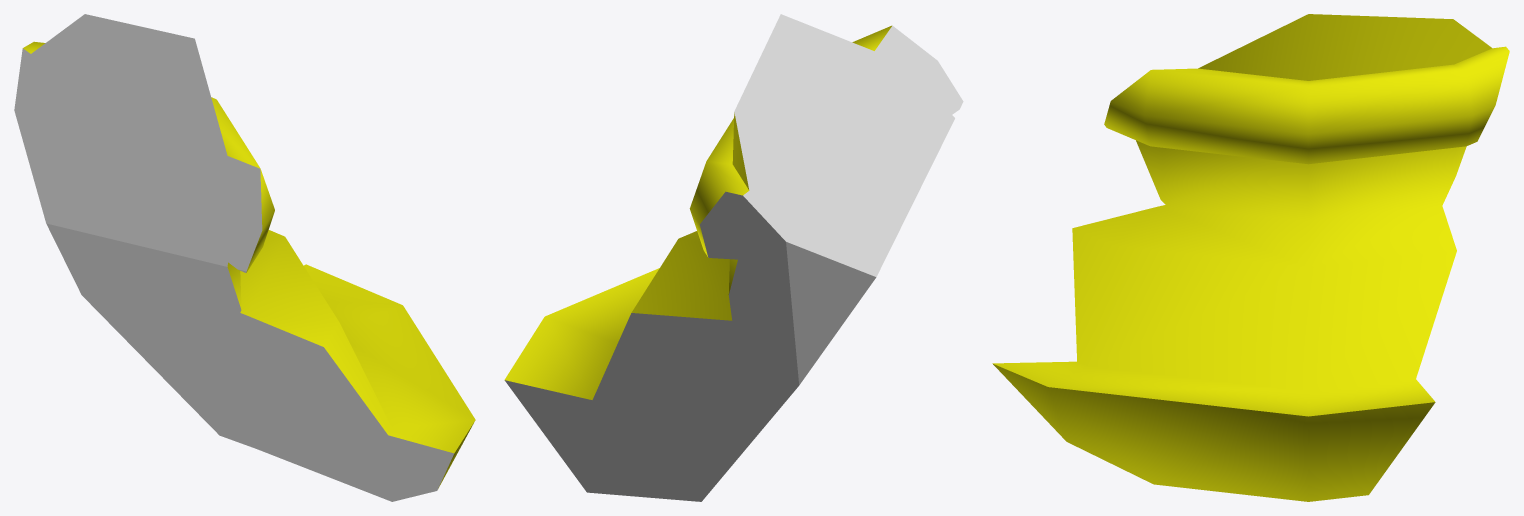
The model's file is mdl_ciudadela_casa_pilar1_fracturepart20.fbx.
3 views of the same model, side by side, from view 1: azimuth 30°, elevation 25°; view 2: azimuth 150°, elevation 25°; view 3: azimuth 270°, elevation 25° (orthographic). The views are drawn at different scales.
Visible parts, largest first — view 1: mdl_ciudadela_casa_pilar1_fracturepart20; view 2: mdl_ciudadela_casa_pilar1_fracturepart20; view 3: mdl_ciudadela_casa_pilar1_fracturepart20.
Part boxes in pixels (x1,y1,x2,y2): mdl_ciudadela_casa_pilar1_fracturepart20: (14,14,475,501); mdl_ciudadela_casa_pilar1_fracturepart20: (504,14,963,501); mdl_ciudadela_casa_pilar1_fracturepart20: (992,14,1509,501).
Size of the model in its own units: 0.5334 by 0.6795 by 0.7669.
